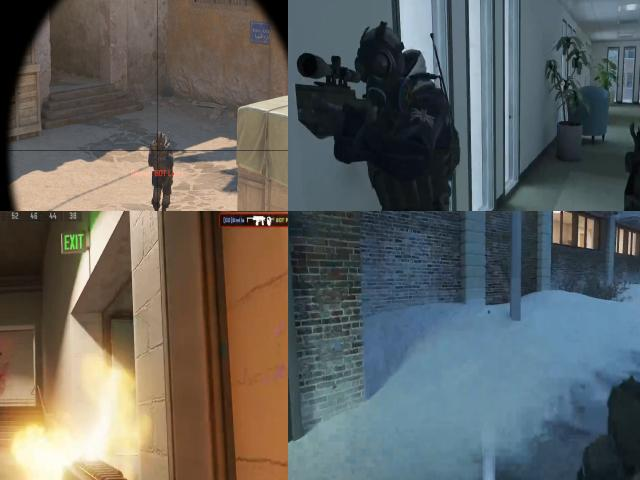CT: (356, 22, 459, 204), (148, 129, 174, 211)
CT-Head: (355, 18, 411, 106), (153, 131, 166, 148)
